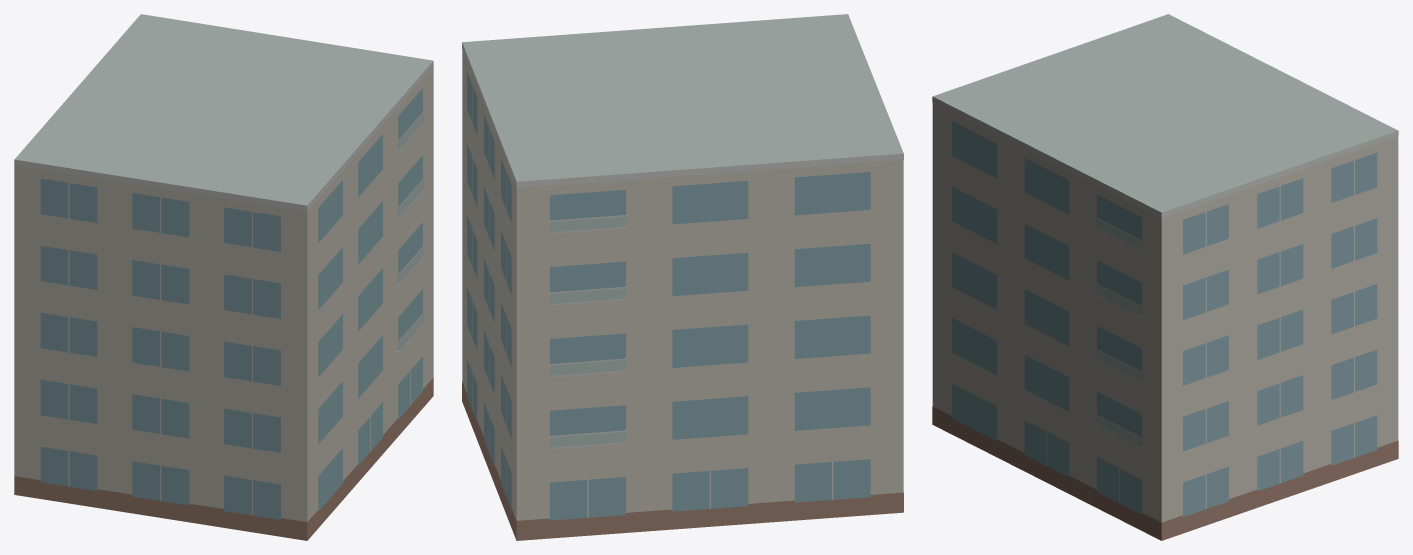
File: survey-upis-32845712.glb
3 views of the same model, side by side, from view 1: azimuth 30°, elevation 25°; view 2: azimuth 150°, elevation 25°; view 3: azimuth 270°, elevation 25° (orthographic). The views are drawn at different scales.
Visible parts, largest first — view 1: survey-upis-32845712.tmp; view 2: survey-upis-32845712.tmp; view 3: survey-upis-32845712.tmp.
Part boxes in pixels (x1,y1,x2,y2): survey-upis-32845712.tmp: (14, 14, 433, 540); survey-upis-32845712.tmp: (462, 14, 903, 540); survey-upis-32845712.tmp: (932, 14, 1398, 540).
Bounding box in the file's own units: 17.79 × 13.7 × 17.63.
